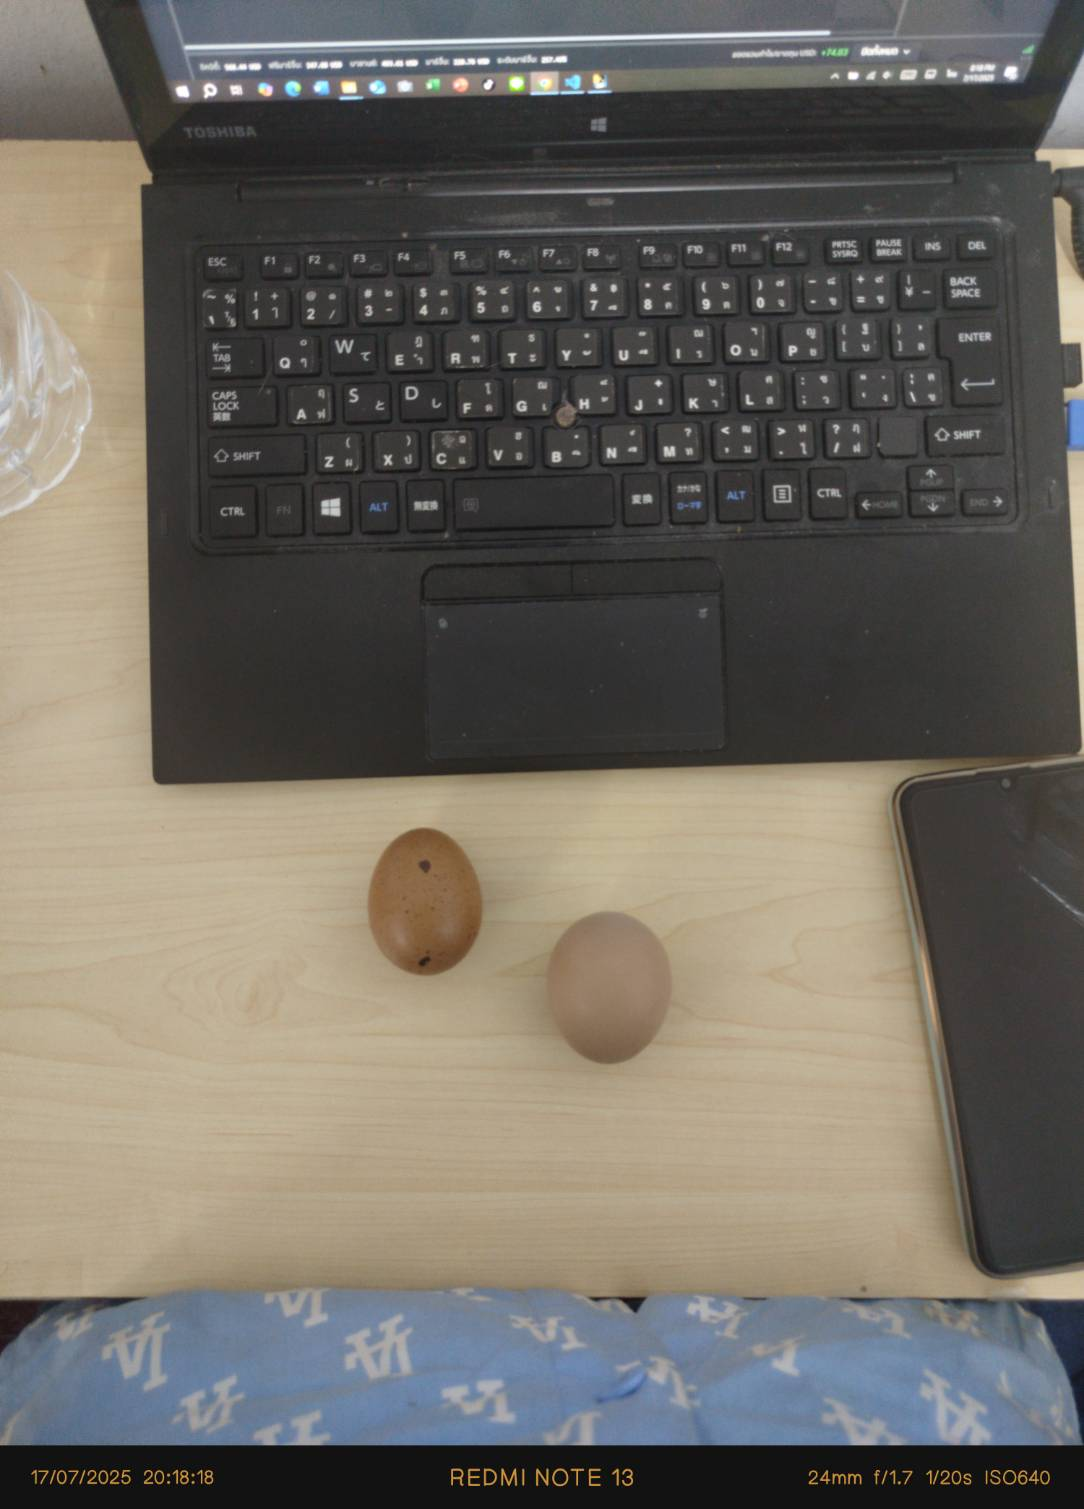egg4: (357, 822, 495, 979), (550, 907, 674, 1065)
